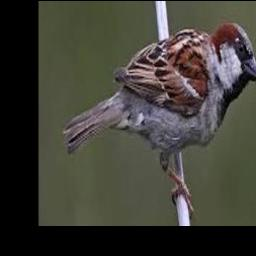Sparrow: (63, 21, 256, 216)
